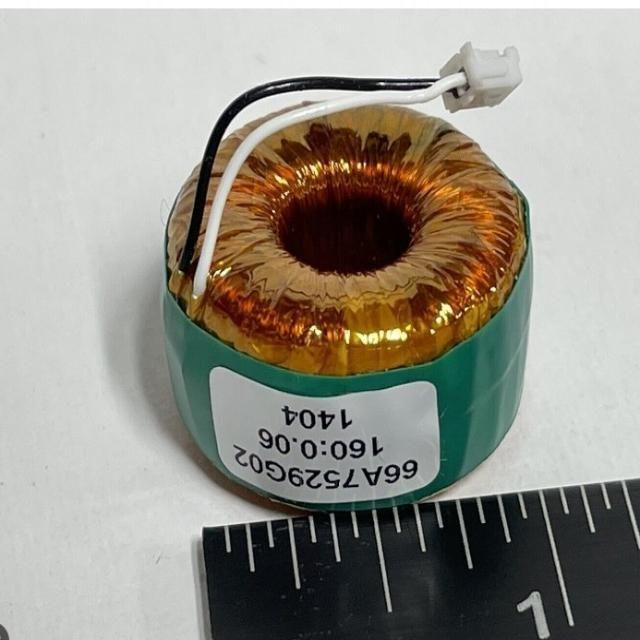Inductor: (169, 106, 525, 374)
